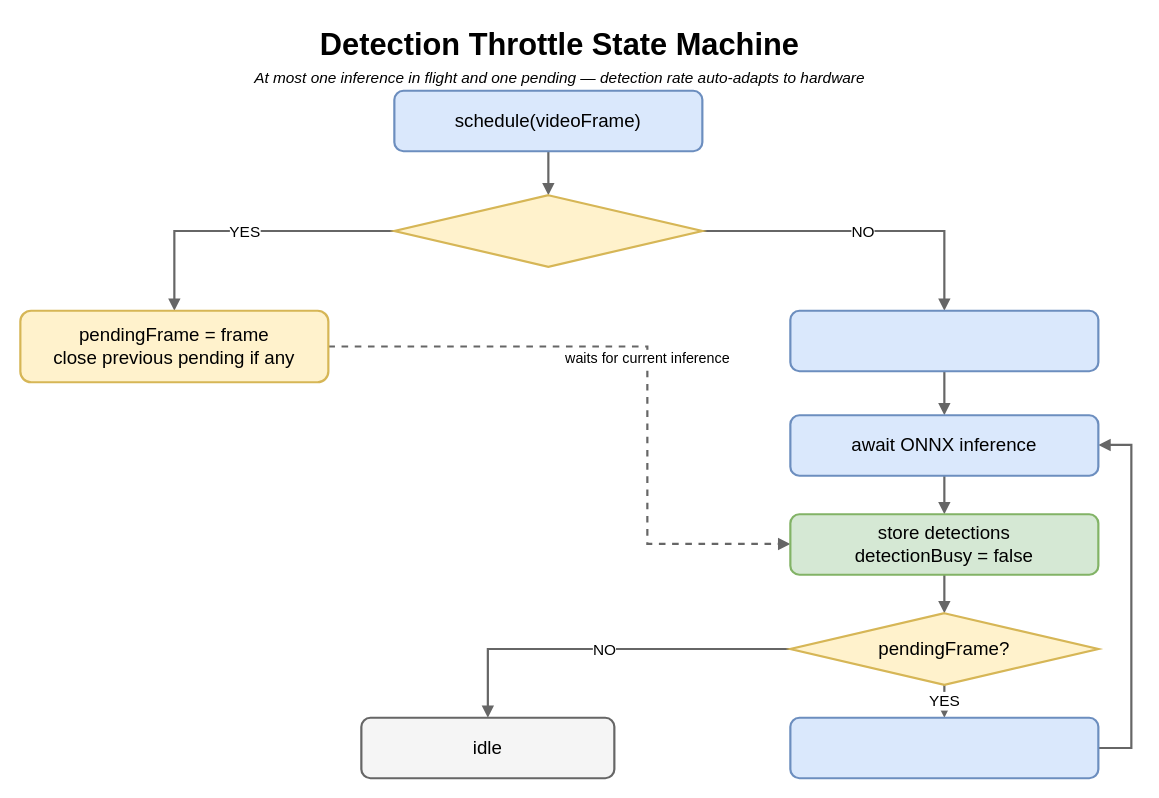
This 1159x798 diagram has some shape labels left out. The box of each missing label's shape, as (x1, y1, x2, y2) in pixels:
detectionBusy?: (393, 194, 703, 267)
runDetection(frame) detectionBusy = true: (789, 309, 1099, 372)
runDetection(pendingFrame) pendingFrame = null: (789, 716, 1099, 779)
